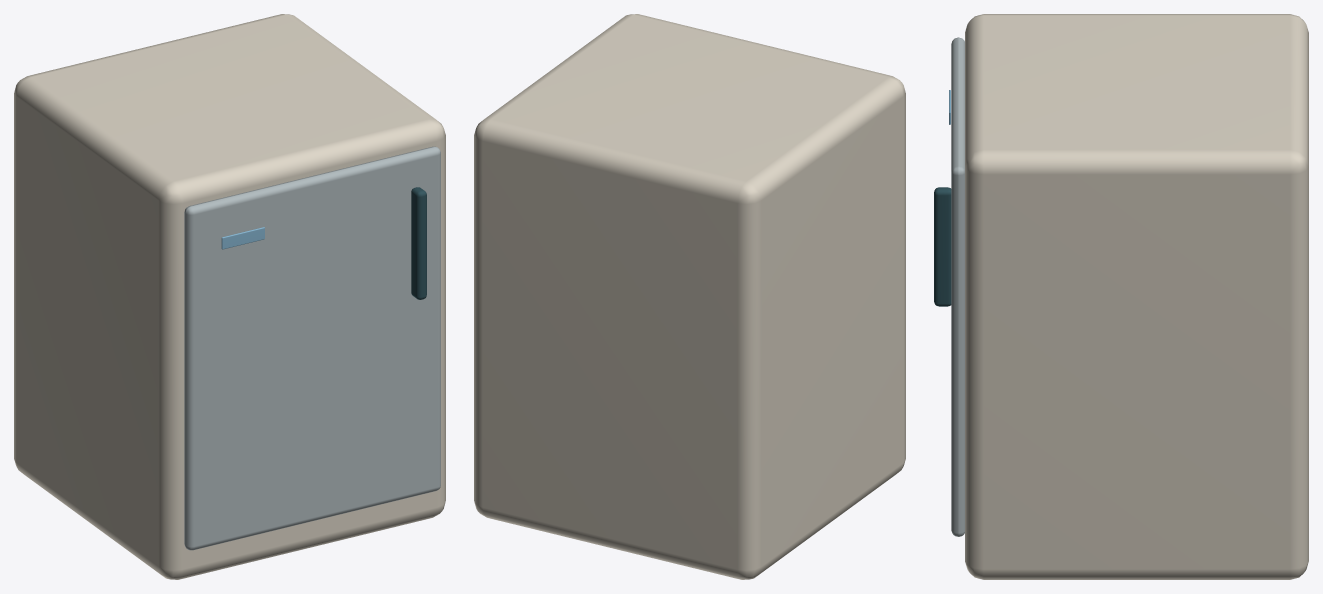
File: ce_fridge.glb
The picture shows the model from 3 angles, left to right: view 1: azimuth 30°, elevation 25°; view 2: azimuth 150°, elevation 25°; view 3: azimuth 270°, elevation 25°; orthographic projection. The views are drawn at different scales.
Parts seen in each view (by area): view 1: prop; view 2: prop; view 3: prop.
Boxes of the visible parts, box(x1,y1,x2,y2) form: prop: box(14, 14, 445, 579); prop: box(474, 14, 905, 579); prop: box(934, 14, 1308, 579).
Bounding box in the file's own units: 0.66 × 0.88 × 0.6975.
